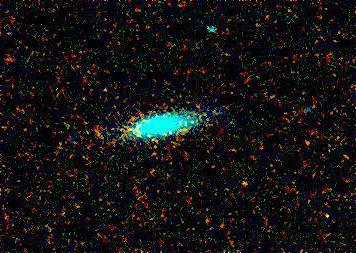star: (229, 170, 259, 200)
